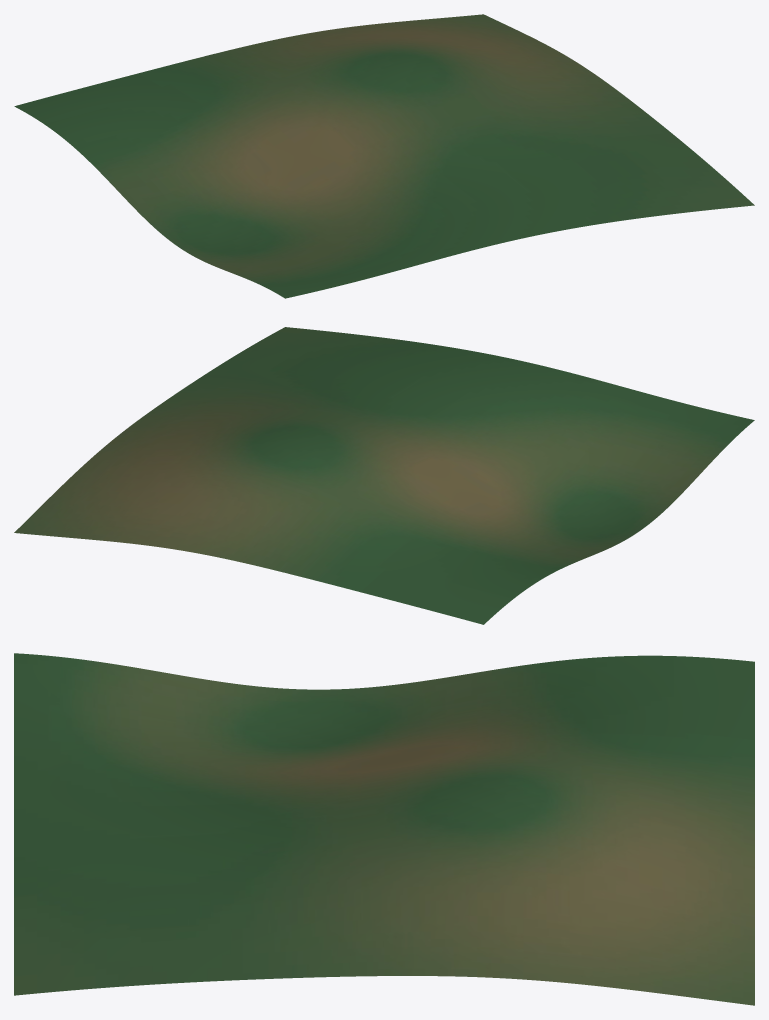
Rendered from terrain_T_E00_N06.glb.
3 renders of one model, top to bottom at view 1: azimuth 30°, elevation 25°; view 2: azimuth 150°, elevation 25°; view 3: azimuth 270°, elevation 25°, orthographic. The views are drawn at different scales.
Parts seen in each view (by area): view 1: Terrain_T_E00_N06; view 2: Terrain_T_E00_N06; view 3: Terrain_T_E00_N06.
Part boxes in pixels (x1,y1,x2,y2): Terrain_T_E00_N06: [14, 14, 754, 298]; Terrain_T_E00_N06: [14, 327, 754, 624]; Terrain_T_E00_N06: [14, 653, 754, 1005].
Bounding box in the file's own units: 2000 × 260 × 2000.
Materials: 1 (1 with a texture image).
